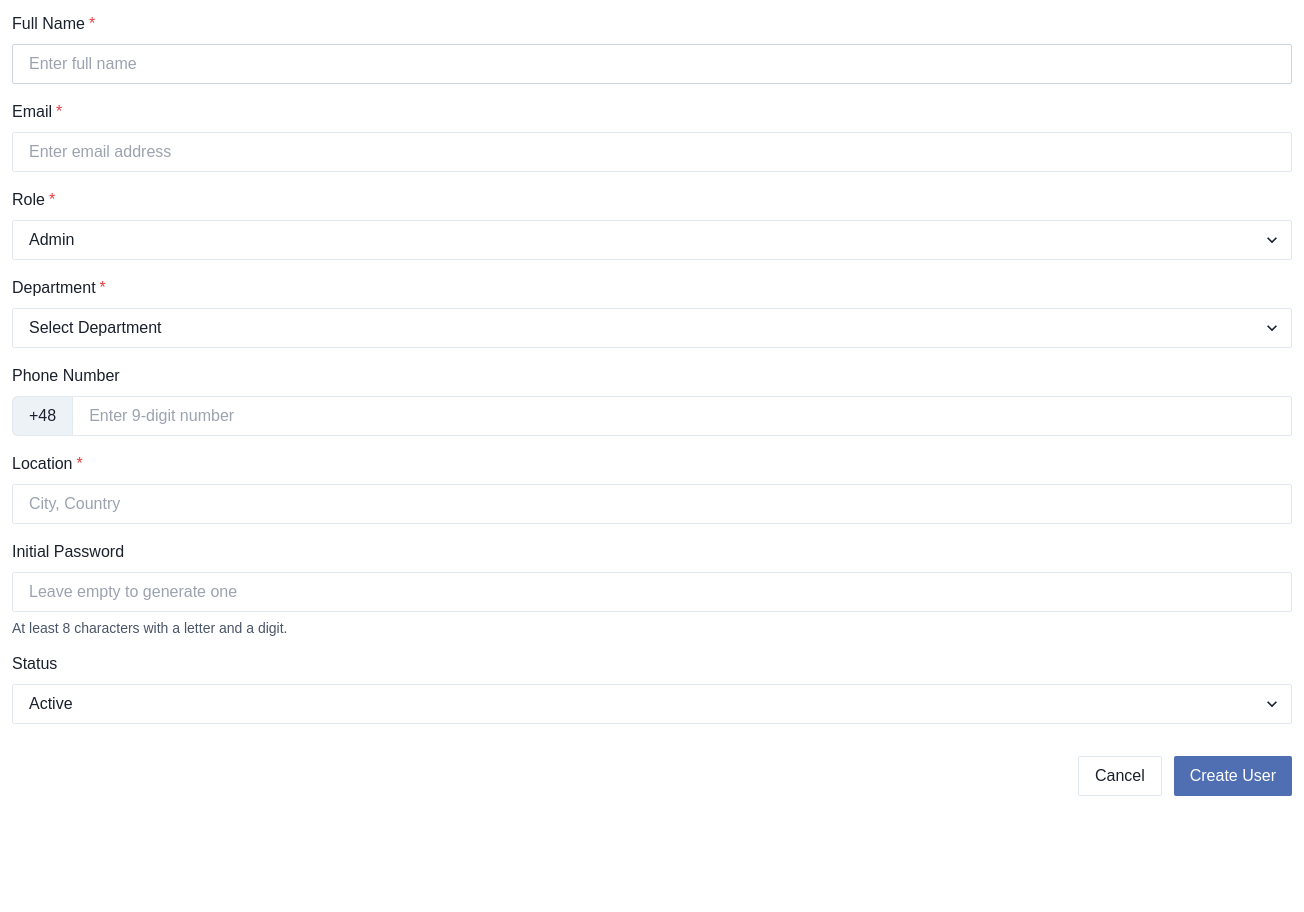
Test: <UserForm> › shows validation messages and does not submit an empty form
What coordinates should you click on to do the following:
click the button "Create User"
I would click on:
 (1233, 776)
Its box is [1174,756,1292,796].
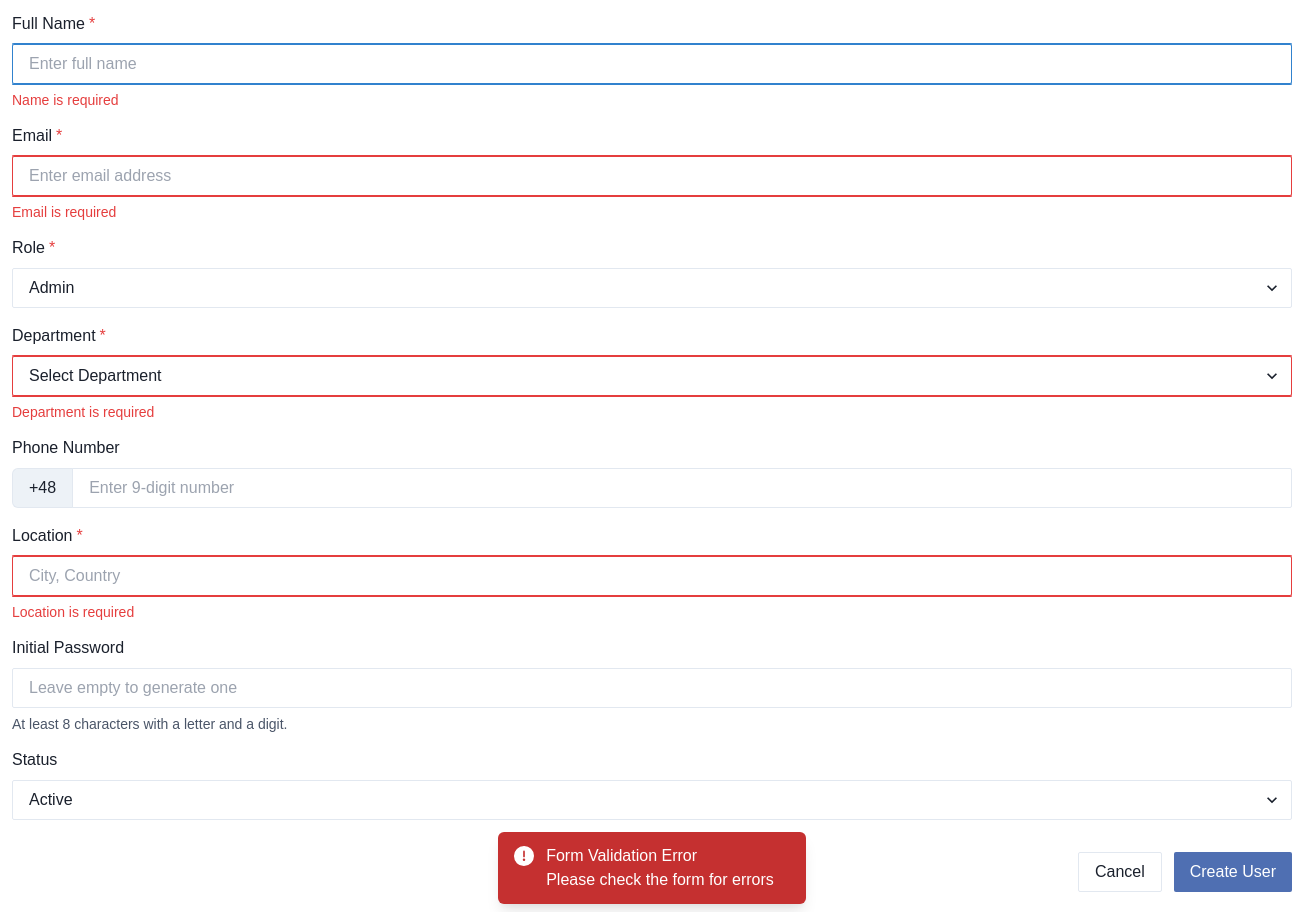
Expected: the text "Name is required" is shown, [12,92,119,108]
Expected: the text "Email is required" is shown, [12,204,116,220]
Expected: the text "Location is required" is shown, [12,604,134,620]
